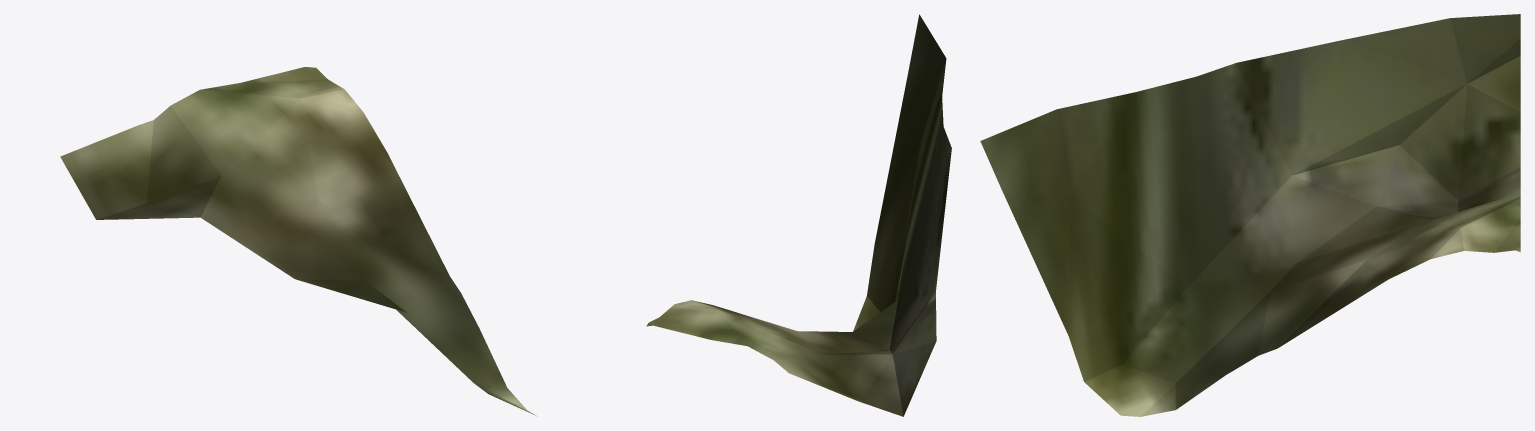
3 views of the same model, side by side, from view 1: azimuth 30°, elevation 25°; view 2: azimuth 150°, elevation 25°; view 3: azimuth 270°, elevation 25° (orthographic). The views are drawn at different scales.
Size of the model in its own units: 0.4135 by 0.4114 by 0.7302.
1 material, 1 textured.
